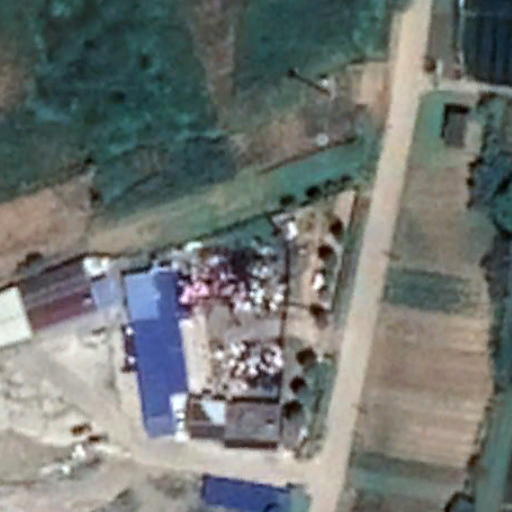msw: (181, 248, 282, 392)
